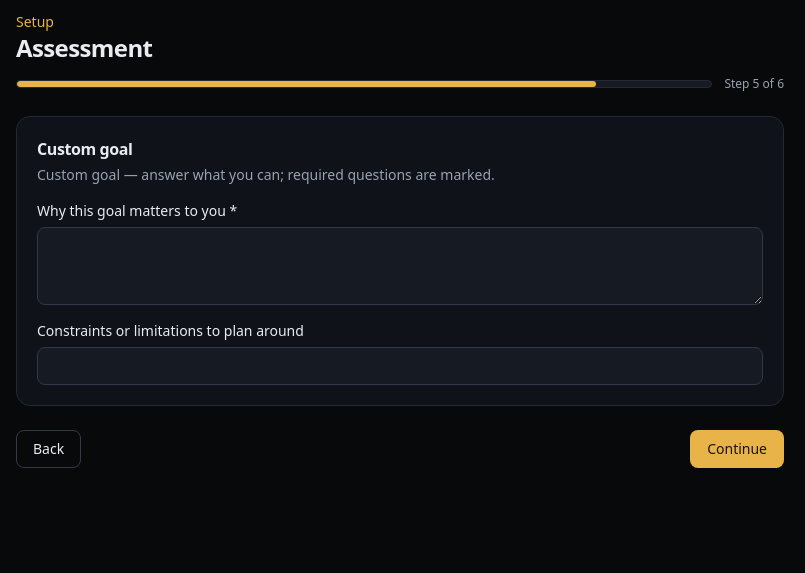
Scenario: OnboardingPage › blocks the assessment step until required questions are answered
This screenshot has width=805, height=573.
What coordinates should you click on to do the following:
click the button "Continue"
I would click on:
 (737, 449)
Its box is [690,430,784,468].
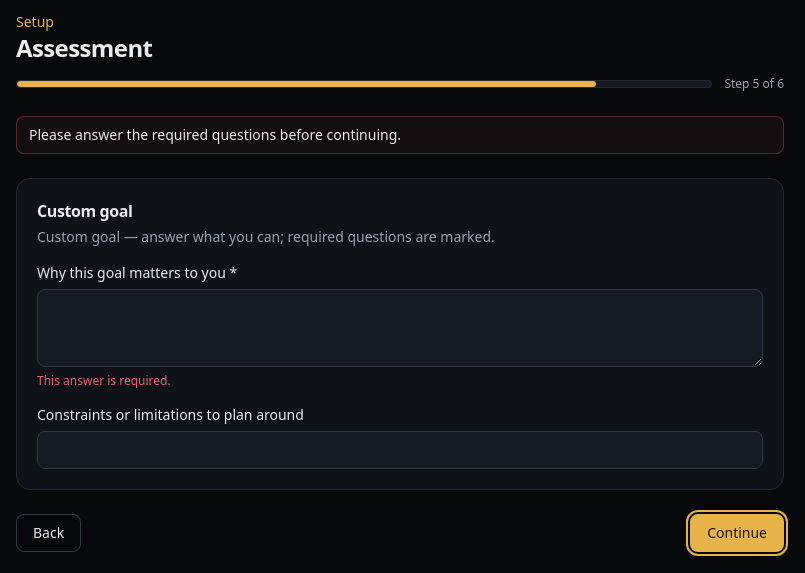
Expected: the text "This answer is required." is shown, [37,372,171,389]
Expected: the text "Please answer the required questions before continuing." is shown, [16,116,784,154]
